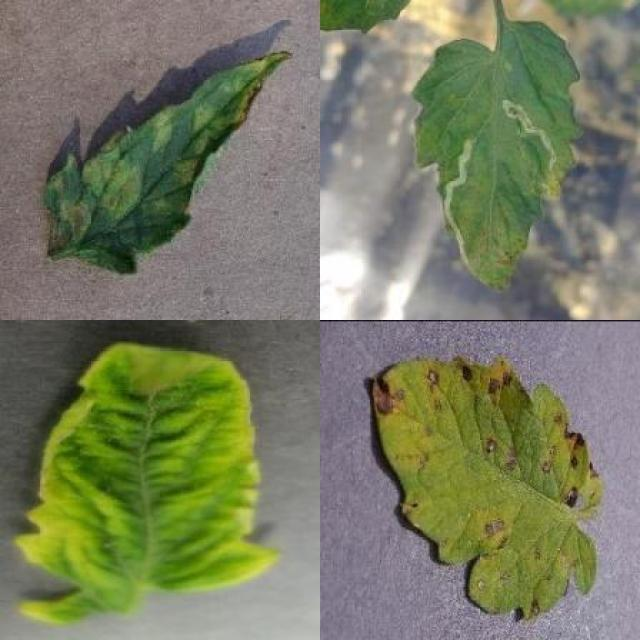Leaf Miner: (407, 18, 584, 292)
Leaf Mold: (45, 51, 294, 276)
Septoria: (365, 352, 602, 617)
Yellow Leaf Curl Virus: (14, 344, 280, 626)
